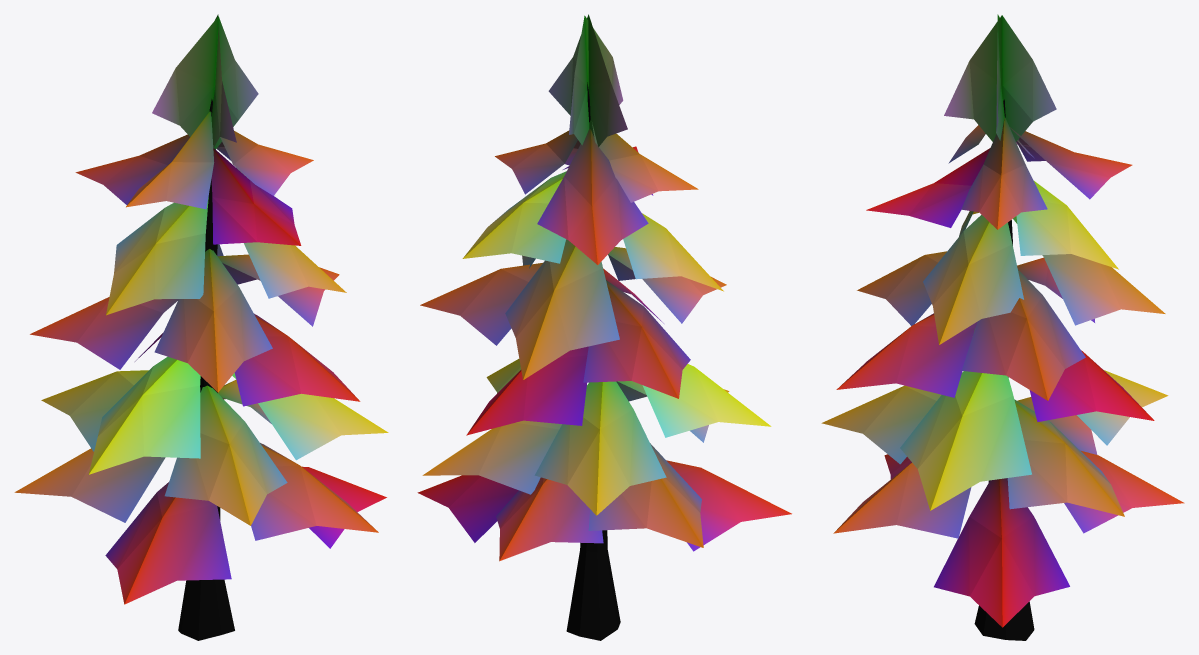
The model's file is cedar_01_medium_a.dae.
3 renders of one model, left to right at view 1: azimuth 30°, elevation 25°; view 2: azimuth 150°, elevation 25°; view 3: azimuth 270°, elevation 25°, orthographic. The views are drawn at different scales.
Parts seen in each view (by area): view 1: cedar128; view 2: cedar128; view 3: cedar128.
Part boxes in pixels (bbox=[...]): cedar128: bbox=[14, 14, 388, 640]; cedar128: bbox=[417, 14, 791, 640]; cedar128: bbox=[821, 14, 1184, 640].
Size of what is drawn, in the model's own units: 11.21 by 10.55 by 19.98.
